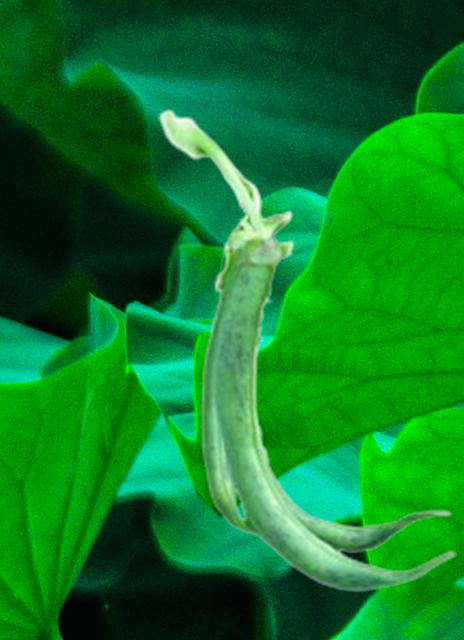french_bean: (157, 108, 455, 592)
